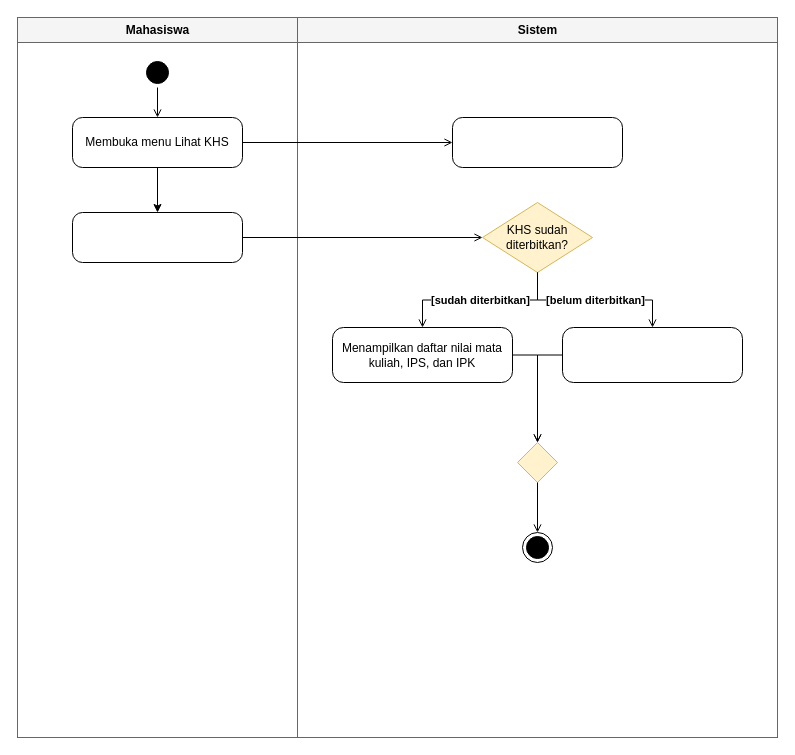
This 795x755 diagram has some shape labels left out. The centre of each missing label's shape, as x and y in pixels:
"Memilih periode semester" goes at [157,237].
"Menampilkan pesan KHS periode tersebut belum tersedia" goes at [652,354].
"Menampilkan pilihan periode semester" goes at [537,142].
